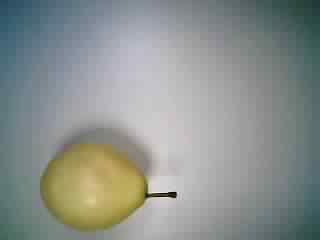pear: (28, 123, 183, 235)
